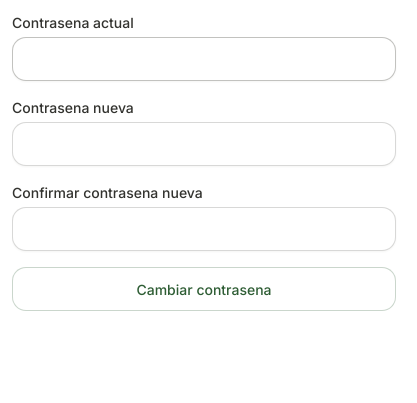
ChangePasswordForm › muestra errores de validacion con el formulario vacio
This screenshot has width=417, height=403.
Click the button "Cambiar contrasena" at (204, 289), box [12,267,396,311]
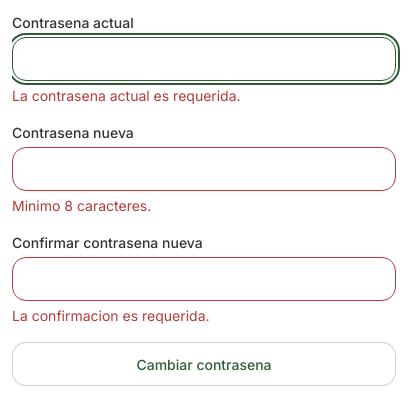
Now the text "La contrasena actual es requerida." is shown, box [12,87,241,104]
Now the text "Minimo 8 caracteres." is shown, box [12,197,151,214]
